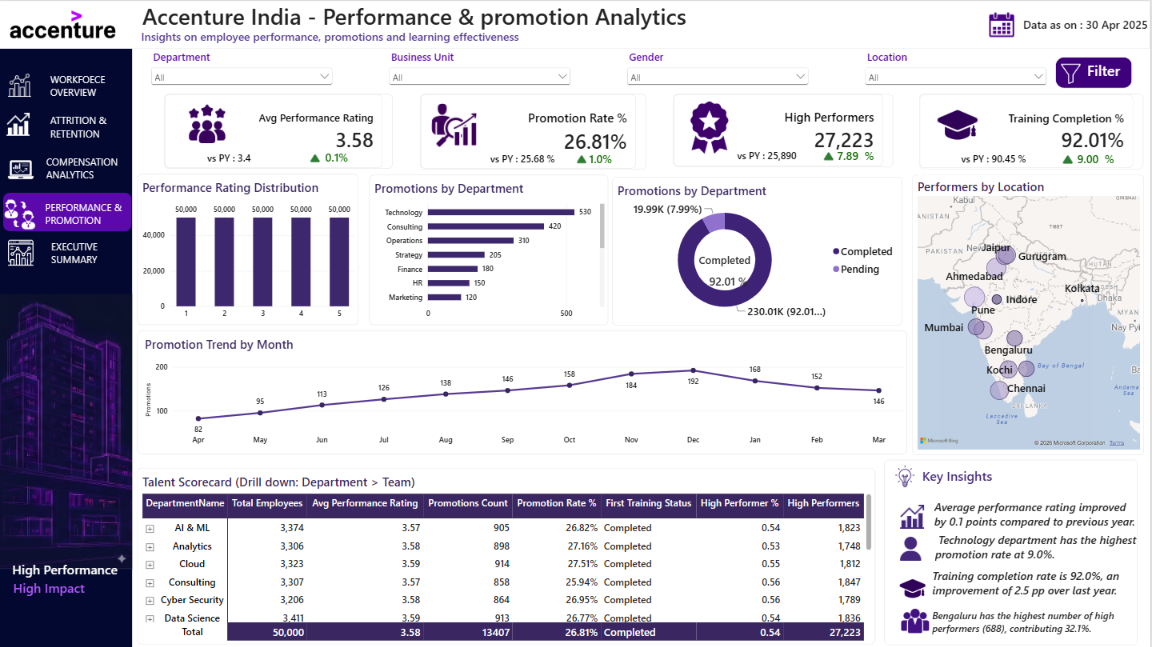

What the dashboard file says about the page in this screenshot:
{"tool":"powerbi","page":{"name":"Performance & Promotion","canvas":[1920,1080],"ordinal":3},"visuals":[{"type":"shape","box":[0,0,1920,80],"z":0,"group":"g1"},{"type":"group","id":"g1","title":"base","box":[0,0,1919.7,1080.3],"z":0},{"type":"image","box":[16.9,13.8,178.5,52.3],"z":0,"group":"g19"},{"type":"slicer","fields":{"Values":["DimDepartment.DepartmentName"]},"box":[247.7,81.5,312.3,60],"z":0,"group":"g5"},{"type":"group","id":"g2","title":"slicer","box":[644.1,81.5,312.3,60],"z":0,"group":"g26"},{"type":"slicer","fields":{"Values":["DimDepartment.Business Unit"]},"box":[644.1,81.5,312.3,60],"z":0,"group":"g2"},{"type":"slicer","fields":{"Values":["FactAttrition.Gender"]},"box":[1040.5,81.5,312.3,60],"z":0,"group":"g9"},{"type":"slicer","fields":{"Values":["DimLocation.City"]},"box":[1436.9,81.5,312.3,60],"z":0,"group":"g14"},{"type":"shape","box":[1760.6,93.9,128.8,53],"z":0,"group":"g22"},{"type":"group","id":"g3","title":"Button","box":[6.7,109.2,215.4,346.5],"z":0,"group":"g10"},{"type":"actionButton","title":"Button 1","box":[7,109.2,213.7,64],"z":0,"group":"g3"},{"type":"image","box":[9.1,122.7,50.7,38.4],"z":0,"group":"g6"},{"type":"cardVisual","fields":{"Data":["Measure Table.Avg Performance Rating"]},"box":[275.7,154.3,380.9,125],"z":0,"group":"g4"},{"type":"group","id":"g4","title":"kpi 1","box":[275.7,154.3,380.9,125],"z":0,"group":"g25"},{"type":"cardVisual","fields":{"Data":["Measure Table.Promotion Rate %"]},"box":[701.6,154.3,376.6,126.5],"z":0,"group":"g7"},{"type":"cardVisual","fields":{"Data":["Measure Table.High Performers Count"]},"box":[1123.2,154.3,366.4,122.1],"z":0,"group":"g11"},{"type":"cardVisual","fields":{"Data":["Measure Table.Training Completion %"]},"box":[1534.6,154.3,373.9,126],"z":0,"group":"g15"},{"type":"image","box":[9.1,188.1,46.1,38.4],"z":0,"group":"g12"},{"type":"image","box":[9.1,259.4,55.3,46.1],"z":0,"group":"g16"},{"type":"image","box":[9.1,331.4,52.3,52.3],"z":0,"group":"g20"},{"type":"image","box":[9.1,399.1,55.3,43],"z":0,"group":"g23"},{"type":"image","box":[0,456.1,221.2,522.7],"z":0,"group":"g17"},{"type":"shape","box":[1474.6,765.7,422.5,308.5],"z":0,"group":"g27"},{"type":"image","box":[1490.1,770.7,39.6,44.8],"z":0,"group":"g8"},{"type":"image","box":[1496.5,840.4,50.1,40.3],"z":0,"group":"g13"},{"type":"image","box":[1495.6,895,45.1,39.7],"z":0,"group":"g18"},{"type":"image","box":[1498.3,960.5,47.8,43.1],"z":0,"group":"g21"},{"type":"image","box":[1502.5,1008,46.5,48],"z":0,"group":"g24"},{"type":"textbox","box":[238.6,0,949.2,56.9],"z":1000,"group":"g19"},{"type":"shape","box":[0,80,221.5,1000],"z":1000,"group":"g1"},{"type":"group","id":"g5","title":"slicer","box":[247.7,81.5,312.3,60],"z":1000,"group":"g26"},{"type":"image","box":[1760.6,104.5,53,33.3],"z":1000,"group":"g22"},{"type":"group","id":"g6","title":"PAGE 1","box":[9.1,120.7,195.8,56.7],"z":1000,"group":"g10"},{"type":"textbox","box":[85.7,120.7,119.2,56.7],"z":1000,"group":"g6"},{"type":"group","id":"g7","title":"kpi 2","box":[701.6,154.3,376.6,126.5],"z":1000,"group":"g25"},{"type":"image","box":[1133.1,164.6,100.3,93.1],"z":1000,"group":"g11"},{"type":"image","box":[294.1,166.8,106.5,73.5],"z":1000,"group":"g4"},{"type":"image","box":[716.6,168.4,82.9,78.5],"z":1000,"group":"g7"},{"type":"image","box":[1552.8,172.8,91.2,67.7],"z":1000,"group":"g15"},{"type":"actionButton","title":"Button 2","box":[8.4,181.7,213.7,64],"z":1000,"group":"g3"},{"type":"textbox","box":[85.8,190.3,119.2,56.7],"z":1000,"group":"g12"},{"type":"textbox","box":[79.8,257.7,141.4,63],"z":1000,"group":"g16"},{"type":"textbox","box":[78.2,334.6,138.4,53.8],"z":1000,"group":"g20"},{"type":"textbox","box":[87.8,399.4,119.2,56.7],"z":1000,"group":"g23"},{"type":"group","id":"g8","title":"key","box":[1490.1,770.7,173.1,44.8],"z":1000,"group":"g27"},{"type":"textbox","box":[1538.5,777,124.8,32],"z":1000,"group":"g8"},{"type":"textbox","box":[1557.8,830,340.9,65.2],"z":1000,"group":"g13"},{"type":"textbox","box":[1558.2,885.9,336.4,68.2],"z":1000,"group":"g18"},{"type":"textbox","box":[21.5,932.9,195.4,35.4],"z":1000,"group":"g17"},{"type":"textbox","box":[1554.6,946.3,358.9,67.7],"z":1000,"group":"g21"},{"type":"textbox","box":[1554,1014,339.4,57.6],"z":1000,"group":"g24"},{"type":"textbox","box":[237.6,46.2,784.6,33.8],"z":2000,"group":"g19"},{"type":"group","id":"g9","title":"slicer","box":[1040.5,81.5,312.3,60],"z":2000,"group":"g26"},{"type":"textbox","box":[1813.6,100,63.6,36.4],"z":2000,"group":"g22"},{"type":"group","id":"g10","title":"pages","box":[6.7,109.2,215.4,346.8],"z":2000},{"type":"group","id":"g11","title":"kpi 3","box":[1123.2,154.3,366.4,122.1],"z":2000,"group":"g25"},{"type":"group","id":"g12","title":"PAGE 2","box":[9.1,188.1,196,58.9],"z":2000,"group":"g10"},{"type":"textbox","box":[1229.9,246.2,131.4,26.2],"z":2000,"group":"g11"},{"type":"textbox","box":[347.4,249.6,155.7,26.6],"z":2000,"group":"g4"},{"type":"actionButton","title":"Button 3","box":[6.7,250,213.7,64],"z":2000,"group":"g3"},{"type":"textbox","box":[817.5,250.4,131.4,26.2],"z":2000,"group":"g7"},{"type":"textbox","box":[1605,250.4,152.8,26.8],"z":2000,"group":"g15"},{"type":"group","id":"g13","title":"key","box":[1496.5,830,402.3,65.2],"z":2000,"group":"g27"},{"type":"textbox","box":[22.7,962.2,178.8,33.3],"z":2000,"group":"g17"},{"type":"actionButton","box":[1758.3,93.3,131.7,55],"z":2500,"group":"g22"},{"type":"image","box":[1650.7,18.5,41.5,43.1],"z":3000,"group":"g19"},{"type":"group","id":"g14","title":"slicer","box":[1436.9,81.5,312.3,60],"z":3000,"group":"g26"},{"type":"group","id":"g15","title":"kpi 4","box":[1534.6,154.3,373.7,126.5],"z":3000,"group":"g25"},{"type":"image","box":[1368.2,249.2,27.7,18.5],"z":3000,"group":"g11"},{"type":"image","box":[511.2,252.8,32.8,18.8],"z":3000,"group":"g4"},{"type":"image","box":[955.8,253.5,27.7,18.5],"z":3000,"group":"g7"},{"type":"image","box":[1765.8,253.5,32.2,18.9],"z":3000,"group":"g15"},{"type":"group","id":"g16","title":"PAGE 3","box":[9.1,257.7,212.2,63],"z":3000,"group":"g10"},{"type":"actionButton","title":"Button 4","box":[6.7,320,213.7,64],"z":3000,"group":"g3"},{"type":"group","id":"g17","title":"left side pic","box":[0,456.1,221.2,539.4],"z":3000},{"type":"group","id":"g18","title":"key","box":[1495.6,885.9,399,68.2],"z":3000,"group":"g27"},{"type":"group","id":"g19","title":"header section","box":[16.9,0,1903.1,80],"z":4000},{"type":"textbox","box":[1706.1,26.2,213.8,30.8],"z":4000,"group":"g19"},{"type":"textbox","box":[1395.8,244.6,64,26.2],"z":4000,"group":"g11"},{"type":"textbox","box":[544,248.1,75.8,26.6],"z":4000,"group":"g4"},{"type":"textbox","box":[1797.9,248.8,74.4,26.8],"z":4000,"group":"g15"},{"type":"textbox","box":[983.5,248.9,64,26.2],"z":4000,"group":"g7"},{"type":"group","id":"g20","title":"PAGE 4","box":[9.1,331.4,207.4,57],"z":4000,"group":"g10"},{"type":"actionButton","title":"Button 5","box":[6.7,391.7,213.7,64],"z":4000,"group":"g3"},{"type":"group","id":"g21","title":"key","box":[1498.3,946.3,415.2,67.7],"z":4000,"group":"g27"},{"type":"group","id":"g22","title":"filter","box":[1758.3,93.3,131.7,55],"z":5000},{"type":"group","id":"g23","title":"PAGE 5","box":[9.1,399.1,197.9,57],"z":5000,"group":"g10"},{"type":"group","id":"g24","title":"key","box":[1502.5,1008,390.9,63.6],"z":5000,"group":"g27"},{"type":"group","id":"g25","title":"KPI","box":[275.7,154.3,1632.6,126.5],"z":6000},{"type":"group","id":"g26","title":"slicer","box":[247.7,81.5,1501.5,60],"z":7000},{"type":"clusteredColumnChart","title":"Performance Rating Distribution","fields":{"Category":["FactPerformance.PerformanceRating"],"Y":["Measure Table.Total Employees"]},"box":[229.9,288.1,368.7,252.2],"z":8000},{"type":"clusteredBarChart","title":"Promotions by Department","fields":{"Category":["DimDepartment.DepartmentName"],"Y":["Measure Table.Dept Promotions"]},"box":[616.4,289.6,398.5,250.7],"z":9000},{"type":"donutChart","title":"Promotions by Department","fields":{"Category":["FactTraining.Training Status"],"Y":["CountNonNull(FactTraining.EmployeeID)"]},"box":[1022.4,292.5,483.6,247.8],"z":10000},{"type":"textbox","box":[1183.9,455.1,76.9,33.8],"z":11000},{"type":"map","title":"Performers by Location","fields":{"Category":["DimLocation.City"],"Size":["Measure Table.High Performers"]},"box":[1522.4,289.6,386.6,467.2],"z":12000},{"type":"lineChart","title":"Promotion Trend by Month","fields":{"Category":["PromotionTrend.Month"],"Y":["Sum(PromotionTrend.Promotions)"]},"box":[229.9,550.7,1283.6,206],"z":13000},{"type":"pivotTable","title":"Talent Scorecard (Drill down: Department > Team)","fields":{"Rows":["DimDepartment.DepartmentName","DimDepartment.Team"],"Values":["Measure Table.Total Employees","Measure Table.Avg Performance Rating","Measure Table.Promotions Count","Measure Table.Promotion Rate %","Min(FactTraining.Training Status)","Measure Table.High Performer %","Measure Table.High Performers"]},"box":[229.9,777.6,1229.9,294],"z":14000},{"type":"group","id":"g27","title":"key insights","box":[1474.6,765.7,438.9,308.5],"z":15000}]}

Visuals, with their boxes on the page's 1920x1080 design canvas (x1, y1, x2, y2). These are canvas units, not pixel positions in the 1152x647 screenshot, which may show the page scaled, cropped or inside an application window:
shape: x1=0, y1=0, x2=1920, y2=80
"base" group: x1=0, y1=0, x2=1920, y2=1080
image: x1=17, y1=14, x2=195, y2=66
slicer - DimDepartment.DepartmentName: x1=248, y1=82, x2=560, y2=142
"slicer" group: x1=644, y1=82, x2=956, y2=142
slicer - DimDepartment.Business Unit: x1=644, y1=82, x2=956, y2=142
slicer - FactAttrition.Gender: x1=1040, y1=82, x2=1353, y2=142
slicer - DimLocation.City: x1=1437, y1=82, x2=1749, y2=142
shape: x1=1761, y1=94, x2=1889, y2=147
"Button" group: x1=7, y1=109, x2=222, y2=456
"Button 1" actionButton: x1=7, y1=109, x2=221, y2=173
image: x1=9, y1=123, x2=60, y2=161
cardVisual - Measure Table.Avg Performance Rating: x1=276, y1=154, x2=657, y2=279
"kpi 1" group: x1=276, y1=154, x2=657, y2=279
cardVisual - Measure Table.Promotion Rate %: x1=702, y1=154, x2=1078, y2=281
cardVisual - Measure Table.High Performers Count: x1=1123, y1=154, x2=1490, y2=276
cardVisual - Measure Table.Training Completion %: x1=1535, y1=154, x2=1908, y2=280
image: x1=9, y1=188, x2=55, y2=226
image: x1=9, y1=259, x2=64, y2=306
image: x1=9, y1=331, x2=61, y2=384
image: x1=9, y1=399, x2=64, y2=442
image: x1=0, y1=456, x2=221, y2=979
shape: x1=1475, y1=766, x2=1897, y2=1074
image: x1=1490, y1=771, x2=1530, y2=816
image: x1=1496, y1=840, x2=1547, y2=881
image: x1=1496, y1=895, x2=1541, y2=935
image: x1=1498, y1=960, x2=1546, y2=1004
image: x1=1502, y1=1008, x2=1549, y2=1056
textbox: x1=239, y1=0, x2=1188, y2=57
shape: x1=0, y1=80, x2=222, y2=1080
"slicer" group: x1=248, y1=82, x2=560, y2=142
image: x1=1761, y1=104, x2=1814, y2=138
"PAGE 1" group: x1=9, y1=121, x2=205, y2=177
textbox: x1=86, y1=121, x2=205, y2=177
"kpi 2" group: x1=702, y1=154, x2=1078, y2=281
image: x1=1133, y1=165, x2=1233, y2=258
image: x1=294, y1=167, x2=401, y2=240
image: x1=717, y1=168, x2=800, y2=247
image: x1=1553, y1=173, x2=1644, y2=240
"Button 2" actionButton: x1=8, y1=182, x2=222, y2=246
textbox: x1=86, y1=190, x2=205, y2=247
textbox: x1=80, y1=258, x2=221, y2=321
textbox: x1=78, y1=335, x2=217, y2=388
textbox: x1=88, y1=399, x2=207, y2=456
"key" group: x1=1490, y1=771, x2=1663, y2=816
textbox: x1=1538, y1=777, x2=1663, y2=809
textbox: x1=1558, y1=830, x2=1899, y2=895
textbox: x1=1558, y1=886, x2=1895, y2=954
textbox: x1=22, y1=933, x2=217, y2=968
textbox: x1=1555, y1=946, x2=1914, y2=1014
textbox: x1=1554, y1=1014, x2=1893, y2=1072
textbox: x1=238, y1=46, x2=1022, y2=80
"slicer" group: x1=1040, y1=82, x2=1353, y2=142
textbox: x1=1814, y1=100, x2=1877, y2=136
"pages" group: x1=7, y1=109, x2=222, y2=456
"kpi 3" group: x1=1123, y1=154, x2=1490, y2=276
"PAGE 2" group: x1=9, y1=188, x2=205, y2=247
textbox: x1=1230, y1=246, x2=1361, y2=272
textbox: x1=347, y1=250, x2=503, y2=276
"Button 3" actionButton: x1=7, y1=250, x2=220, y2=314
textbox: x1=818, y1=250, x2=949, y2=277
textbox: x1=1605, y1=250, x2=1758, y2=277
"key" group: x1=1496, y1=830, x2=1899, y2=895
textbox: x1=23, y1=962, x2=202, y2=996
actionButton: x1=1758, y1=93, x2=1890, y2=148
image: x1=1651, y1=18, x2=1692, y2=62
"slicer" group: x1=1437, y1=82, x2=1749, y2=142
"kpi 4" group: x1=1535, y1=154, x2=1908, y2=281
image: x1=1368, y1=249, x2=1396, y2=268
image: x1=511, y1=253, x2=544, y2=272
image: x1=956, y1=254, x2=984, y2=272
image: x1=1766, y1=254, x2=1798, y2=272
"PAGE 3" group: x1=9, y1=258, x2=221, y2=321
"Button 4" actionButton: x1=7, y1=320, x2=220, y2=384
"left side pic" group: x1=0, y1=456, x2=221, y2=996
"key" group: x1=1496, y1=886, x2=1895, y2=954
"header section" group: x1=17, y1=0, x2=1920, y2=80
textbox: x1=1706, y1=26, x2=1920, y2=57
textbox: x1=1396, y1=245, x2=1460, y2=271
textbox: x1=544, y1=248, x2=620, y2=275
textbox: x1=1798, y1=249, x2=1872, y2=276
textbox: x1=984, y1=249, x2=1048, y2=275
"PAGE 4" group: x1=9, y1=331, x2=216, y2=388
"Button 5" actionButton: x1=7, y1=392, x2=220, y2=456
"key" group: x1=1498, y1=946, x2=1914, y2=1014
"filter" group: x1=1758, y1=93, x2=1890, y2=148
"PAGE 5" group: x1=9, y1=399, x2=207, y2=456
"key" group: x1=1502, y1=1008, x2=1893, y2=1072
"KPI" group: x1=276, y1=154, x2=1908, y2=281
"slicer" group: x1=248, y1=82, x2=1749, y2=142
"Performance Rating Distribution" clusteredColumnChart: x1=230, y1=288, x2=599, y2=540
"Promotions by Department" clusteredBarChart: x1=616, y1=290, x2=1015, y2=540
"Promotions by Department" donutChart: x1=1022, y1=292, x2=1506, y2=540
textbox: x1=1184, y1=455, x2=1261, y2=489
"Performers by Location" map: x1=1522, y1=290, x2=1909, y2=757
"Promotion Trend by Month" lineChart: x1=230, y1=551, x2=1514, y2=757
"Talent Scorecard (Drill down: Department > Team)" pivotTable: x1=230, y1=778, x2=1460, y2=1072
"key insights" group: x1=1475, y1=766, x2=1914, y2=1074
